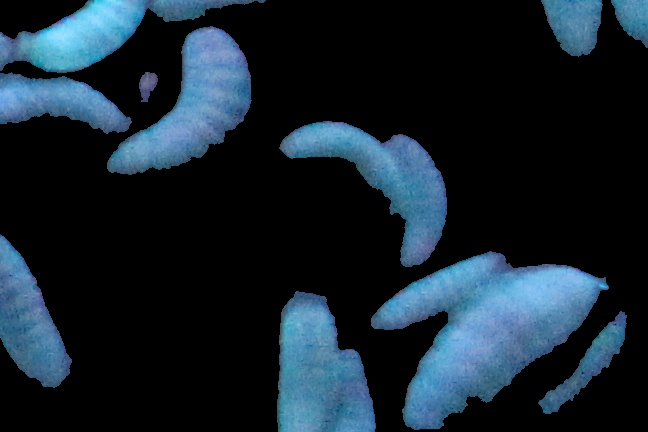larvae: (416, 263, 614, 430), (109, 30, 249, 177), (259, 293, 352, 432), (1, 225, 78, 377), (279, 119, 395, 217), (535, 319, 632, 423), (21, 1, 147, 72), (376, 258, 481, 326), (398, 133, 448, 268), (1, 79, 111, 126), (520, 1, 597, 60), (336, 349, 382, 432), (176, 1, 291, 12)
